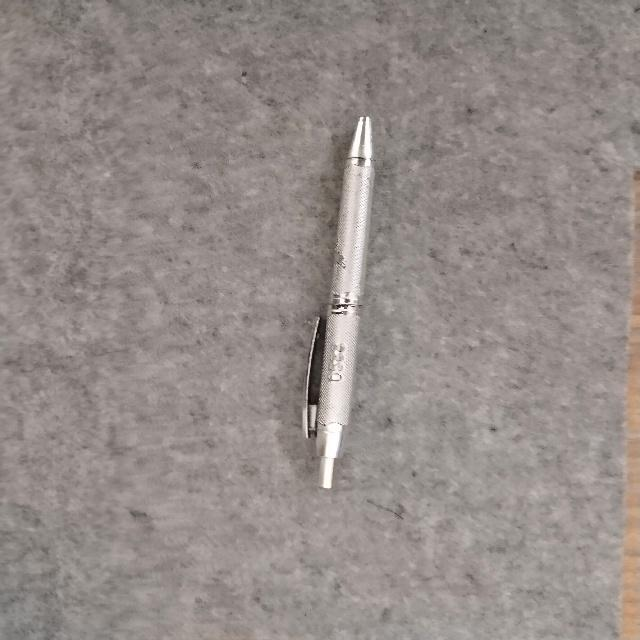signature pen: (303, 117, 373, 487)
